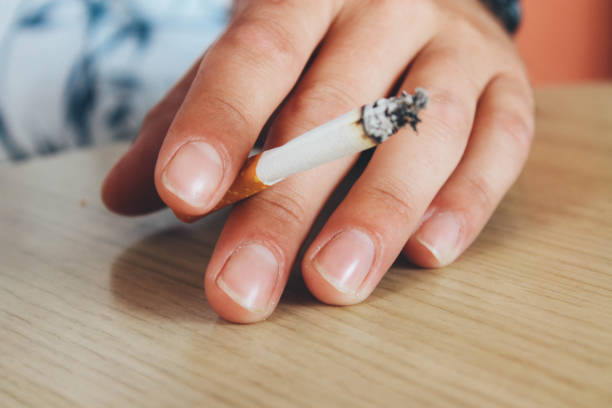cigarette: (170, 92, 424, 227)
